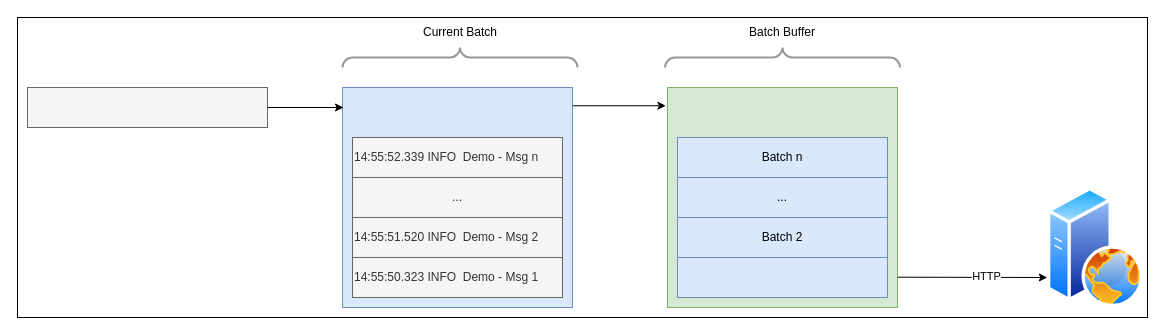
The diagram is 1165 pixels wide and 335 high, and some of its shapes have lost their labels. Each missing label, with the centre of its shape:
"14:55:59.104 INFO Demo - All good" goes at pixel 147 107.
"Batch 1" goes at pixel 782 277.
